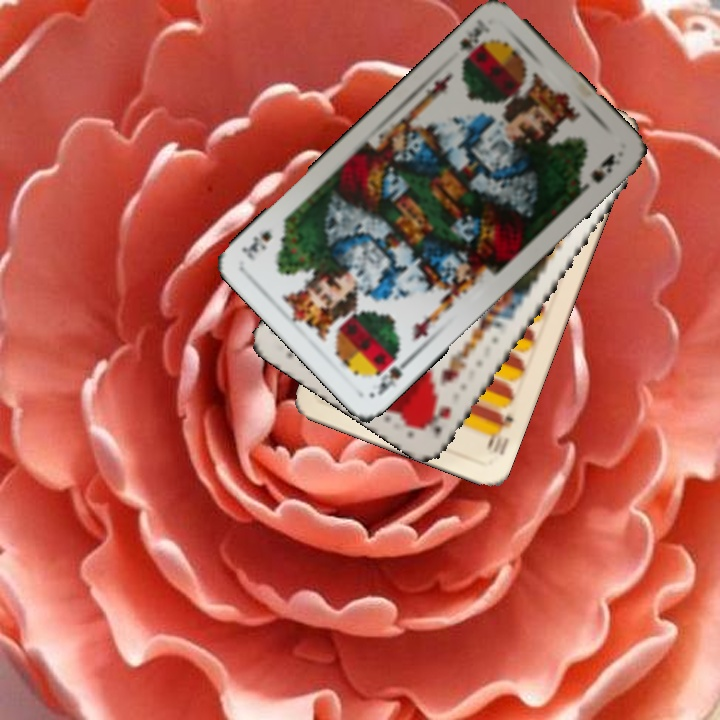E10: (482, 409, 517, 459)
HK: (420, 401, 454, 438)
SK: (373, 352, 416, 398), (455, 23, 489, 69)
